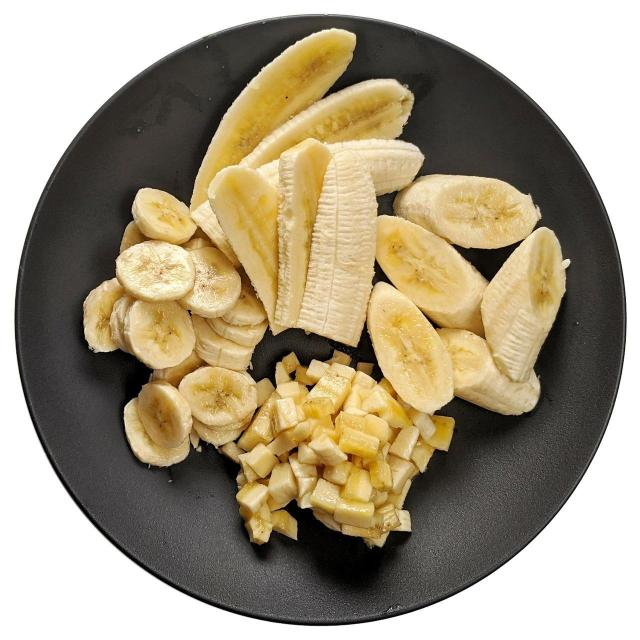Banana: (190, 28, 356, 210), (298, 148, 377, 346), (239, 80, 414, 169), (207, 161, 290, 334), (480, 228, 570, 382), (376, 216, 488, 336), (368, 282, 453, 414), (394, 174, 540, 248), (274, 138, 326, 331), (438, 328, 540, 414), (179, 366, 258, 430), (124, 300, 196, 369), (179, 238, 241, 318), (116, 240, 195, 302), (124, 398, 190, 467), (137, 380, 192, 449), (132, 188, 197, 244), (192, 315, 254, 372)
